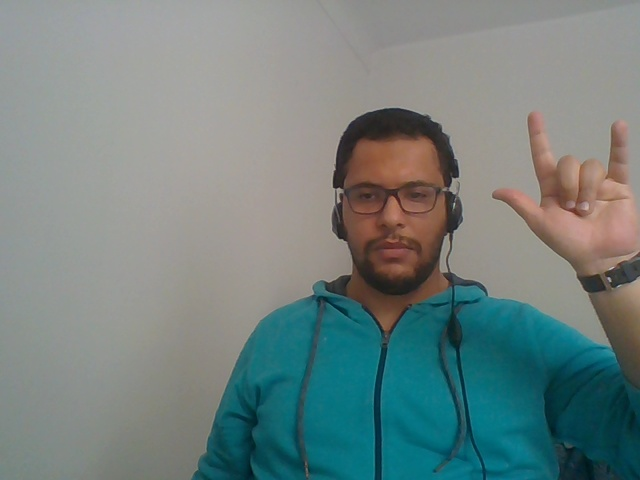iloveyou: (484, 88, 640, 324)
